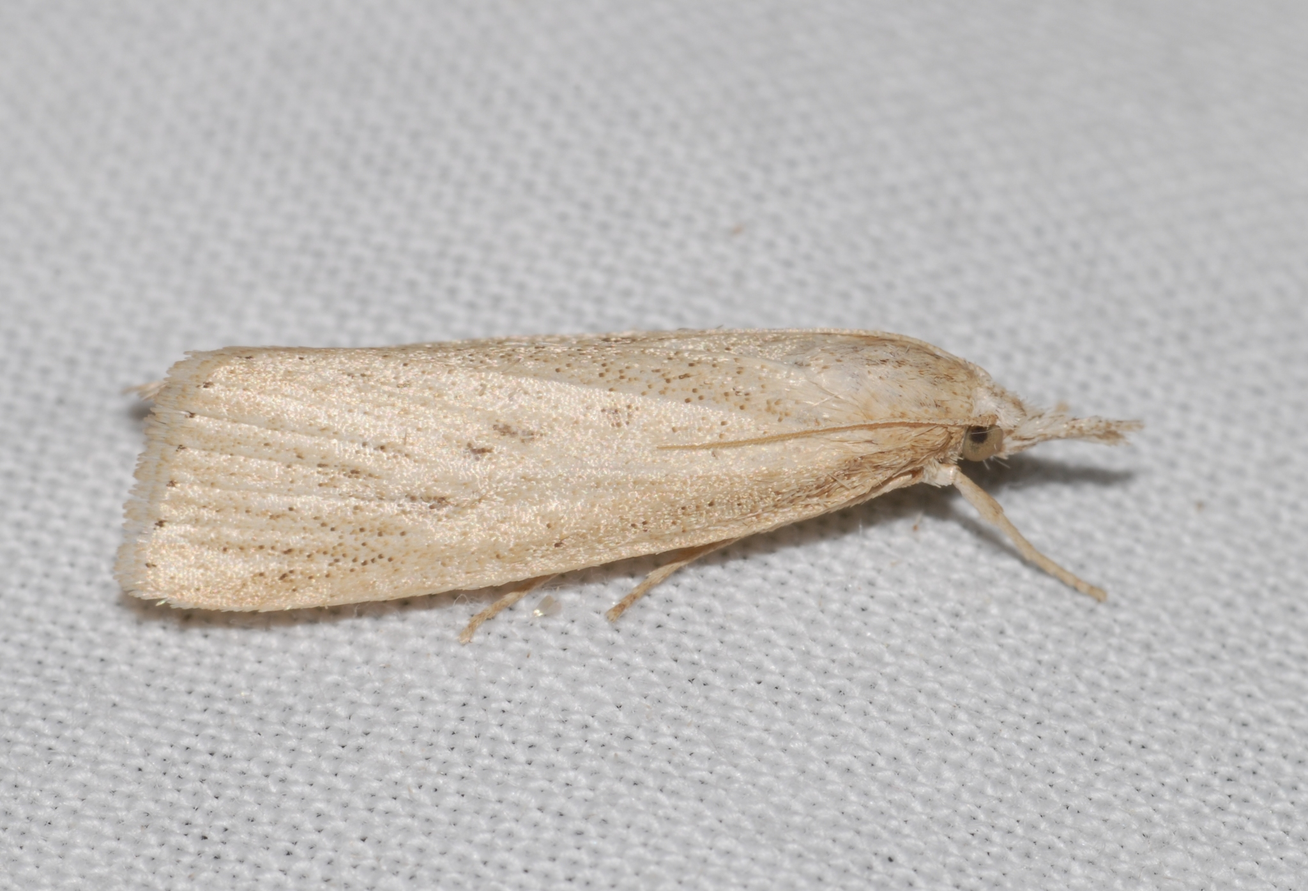Crambidae: (108, 283, 1136, 660)
